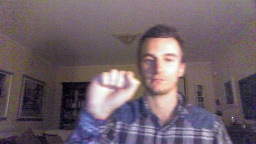Pugno: (83, 66, 142, 121)
